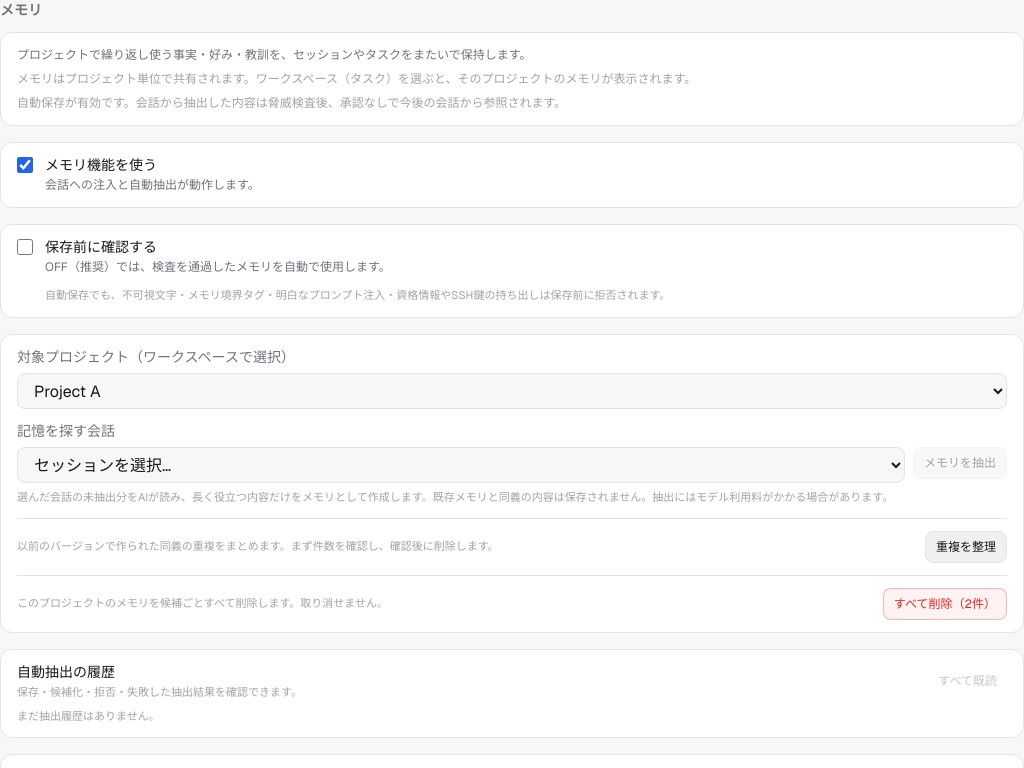
Test: MemorySettings › deletes every memory in the scope after the confirmation is accepted
Click the button "すべて削除（2件）". click: (945, 604)
box: [883,588,1007,620]
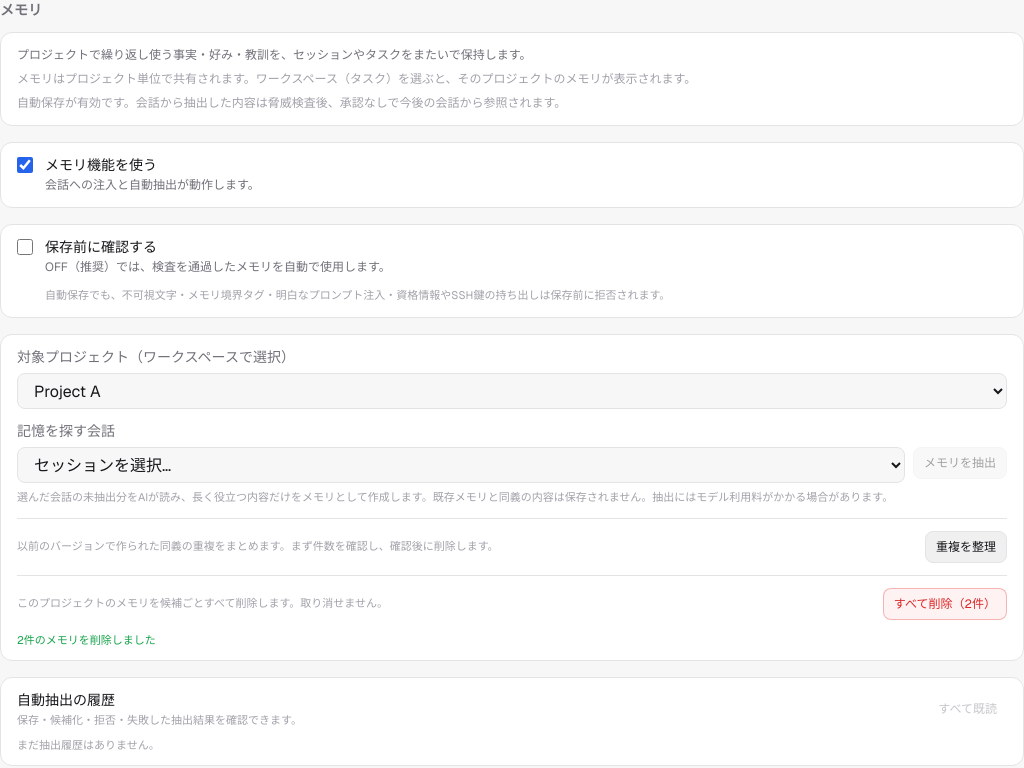
Now the text "2件のメモリを削除しました" is shown, box [17,632,156,646]
